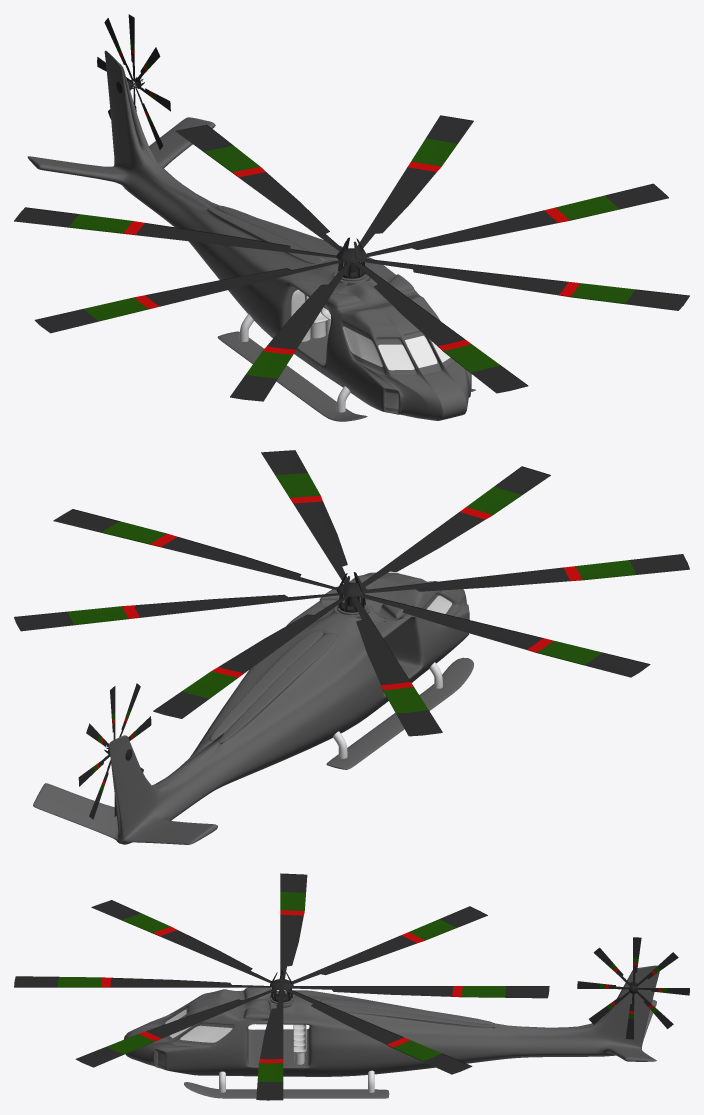
The model's file is helicopter.fbx.
The picture shows the model from 3 angles, top to bottom: view 1: azimuth 30°, elevation 25°; view 2: azimuth 150°, elevation 25°; view 3: azimuth 270°, elevation 25°; orthographic projection. The views are drawn at different scales.
Parts seen in each view (by area): view 1: body, main_rotor, rear_rotor; view 2: body, main_rotor, rear_rotor; view 3: body, main_rotor, rear_rotor.
Part boxes in pixels (<box>): body: <box>27,50,475,421</box>; main_rotor: <box>14,115,689,401</box>; rear_rotor: <box>97,14,170,149</box>; body: <box>33,572,473,844</box>; main_rotor: <box>14,450,689,736</box>; rear_rotor: <box>78,683,151,819</box>; body: <box>124,965,659,1098</box>; main_rotor: <box>14,873,549,1100</box>; rear_rotor: <box>577,937,689,1039</box>.
Bounding box in the file's own units: 8023 × 2342 × 10127.
